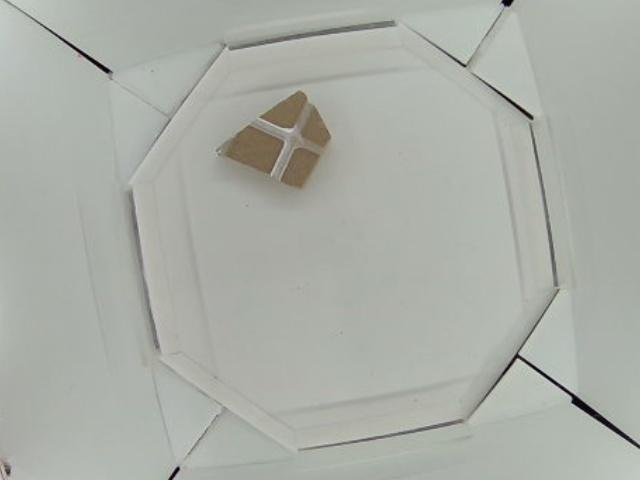China: (218, 90, 329, 195)
